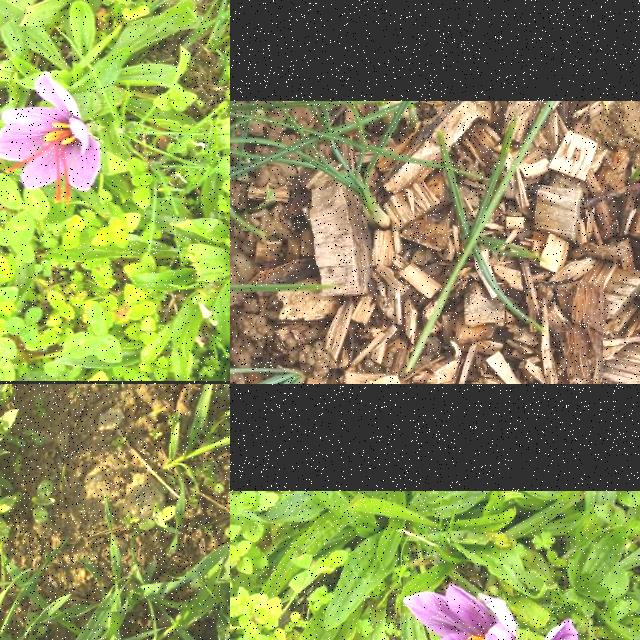flower: (0, 72, 101, 205), (404, 580, 518, 640), (531, 618, 630, 640)
